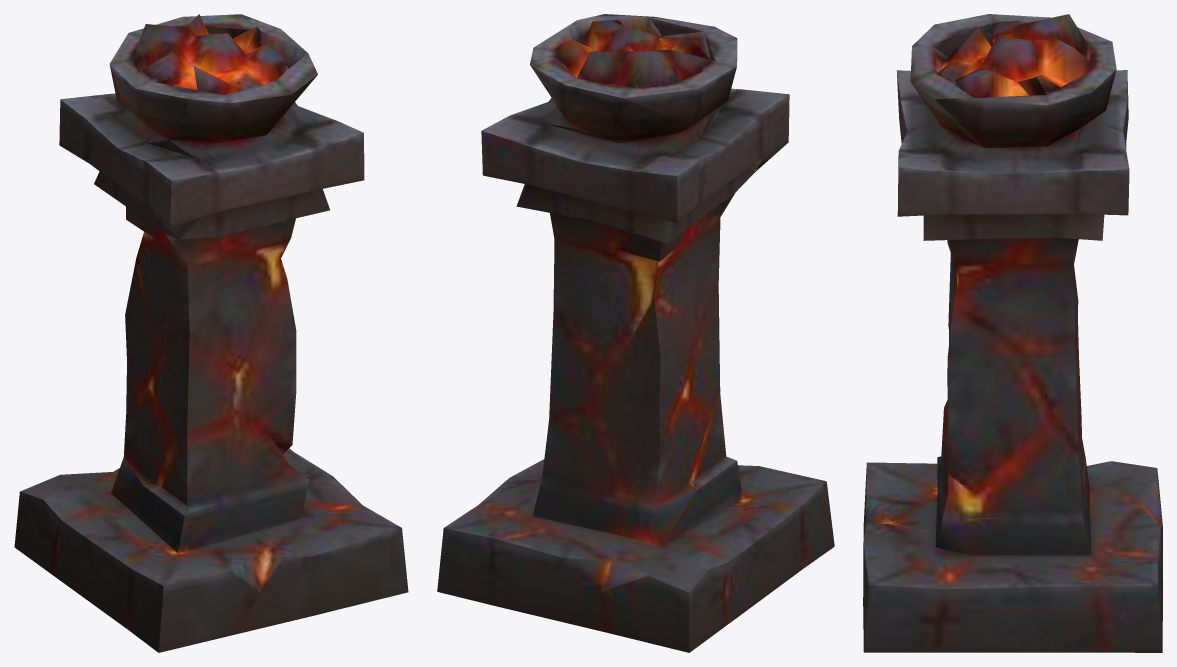
The model's file is b_braises_pilier.glb.
The picture shows the model from 3 angles, left to right: view 1: azimuth 30°, elevation 25°; view 2: azimuth 150°, elevation 25°; view 3: azimuth 270°, elevation 25°; orthographic projection. The views are drawn at different scales.
Visible parts, largest first — view 1: geometry_0; view 2: geometry_0; view 3: geometry_0.
Part boxes in pixels (x1,y1,x2,y2): geometry_0: [14, 14, 408, 652]; geometry_0: [437, 14, 834, 652]; geometry_0: [863, 14, 1162, 652].
Bounding box in the file's own units: 0.9999 × 2.05 × 0.9999.
Materials: 1 (1 with a texture image).
